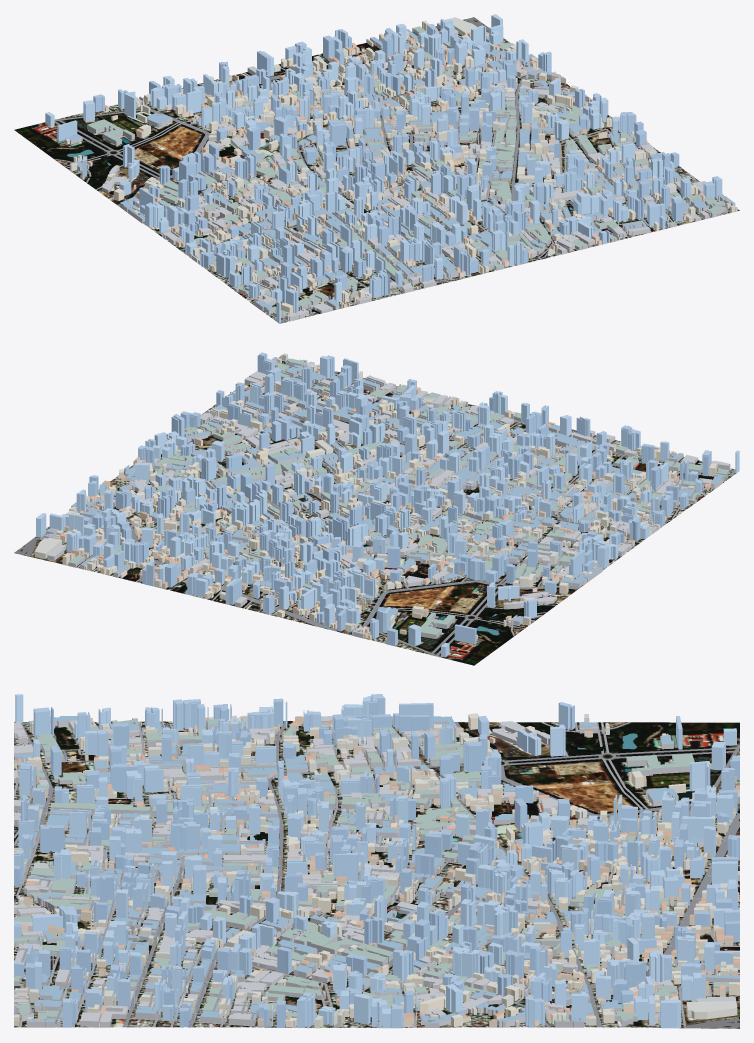
The picture shows the model from 3 angles, top to bottom: view 1: azimuth 30°, elevation 25°; view 2: azimuth 150°, elevation 25°; view 3: azimuth 270°, elevation 25°; orthographic projection. The views are drawn at different scales.
Visible parts, largest first — view 1: BLDG_MODERN_TOWER, BLDG_INDUSTRIAL_PORT, TERRAIN, BLDG_APARTMENT, BLDG_TUBE_SHOPHOUSE, ROAD_METRO; view 2: BLDG_MODERN_TOWER, BLDG_INDUSTRIAL_PORT, TERRAIN, BLDG_APARTMENT, BLDG_TUBE_SHOPHOUSE, ROAD_METRO; view 3: BLDG_MODERN_TOWER, BLDG_INDUSTRIAL_PORT, TERRAIN, BLDG_APARTMENT, BLDG_TUBE_SHOPHOUSE, ROAD_METRO.
Boxes of the visible parts, left/top/right/bottom form: BLDG_MODERN_TOWER: left=45, top=14, right=722, bottom=323; BLDG_INDUSTRIAL_PORT: left=65, top=22, right=735, bottom=321; TERRAIN: left=14, top=17, right=739, bottom=323; BLDG_APARTMENT: left=73, top=17, right=735, bottom=314; BLDG_TUBE_SHOPHOUSE: left=65, top=31, right=737, bottom=307; ROAD_METRO: left=54, top=18, right=737, bottom=322; BLDG_MODERN_TOWER: left=36, top=352, right=739, bottom=657; BLDG_INDUSTRIAL_PORT: left=44, top=357, right=730, bottom=638; TERRAIN: left=14, top=360, right=736, bottom=665; BLDG_APARTMENT: left=35, top=353, right=717, bottom=631; BLDG_TUBE_SHOPHOUSE: left=46, top=354, right=711, bottom=642; ROAD_METRO: left=16, top=359, right=735, bottom=656; BLDG_MODERN_TOWER: left=14, top=694, right=739, bottom=1028; BLDG_INDUSTRIAL_PORT: left=14, top=716, right=739, bottom=1027; TERRAIN: left=14, top=721, right=739, bottom=1028; BLDG_APARTMENT: left=14, top=711, right=739, bottom=1028; BLDG_TUBE_SHOPHOUSE: left=14, top=714, right=739, bottom=1027; ROAD_METRO: left=14, top=721, right=739, bottom=1028.
Bounding box in the file's own units: 2000 × 96.03 × 2000.
7 materials, 1 textured.
